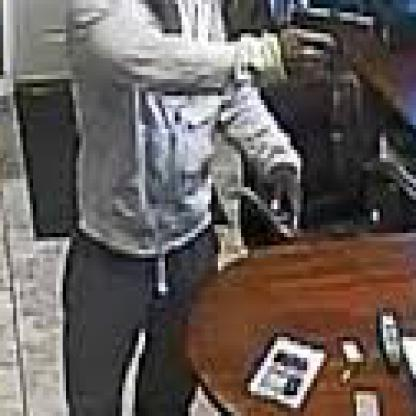gun: (284, 0, 383, 71)
